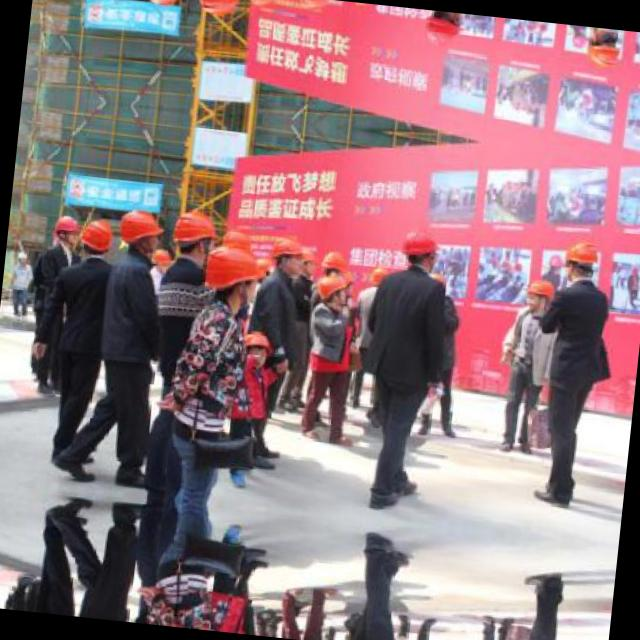helmet: (206, 240, 264, 314), (394, 222, 444, 275), (113, 208, 162, 254), (417, 8, 467, 51), (170, 211, 214, 259), (262, 232, 310, 276), (561, 237, 602, 285), (236, 322, 272, 376), (583, 26, 625, 68), (79, 215, 118, 258), (524, 272, 562, 312), (317, 272, 351, 309), (49, 212, 81, 248), (318, 246, 346, 279), (289, 0, 336, 12), (196, 0, 240, 12)
